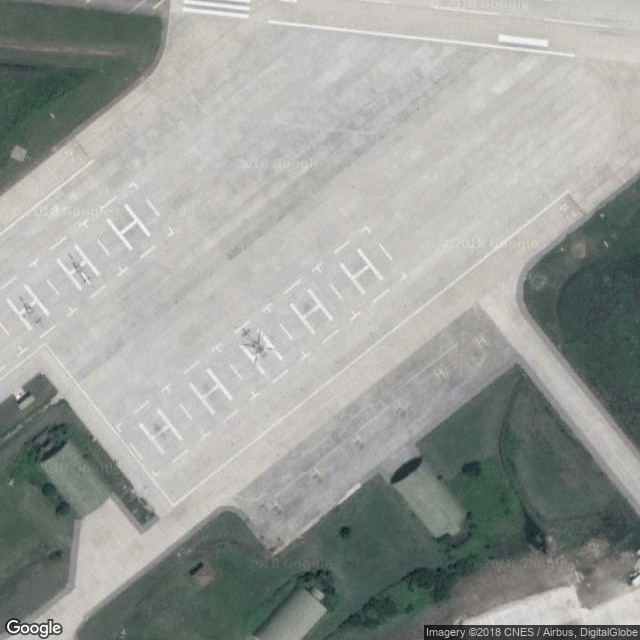heliport: (42, 240, 107, 294), (127, 406, 191, 457), (277, 285, 339, 337), (94, 204, 153, 256), (325, 250, 387, 298), (179, 367, 237, 417), (231, 330, 291, 376), (2, 284, 53, 334)
